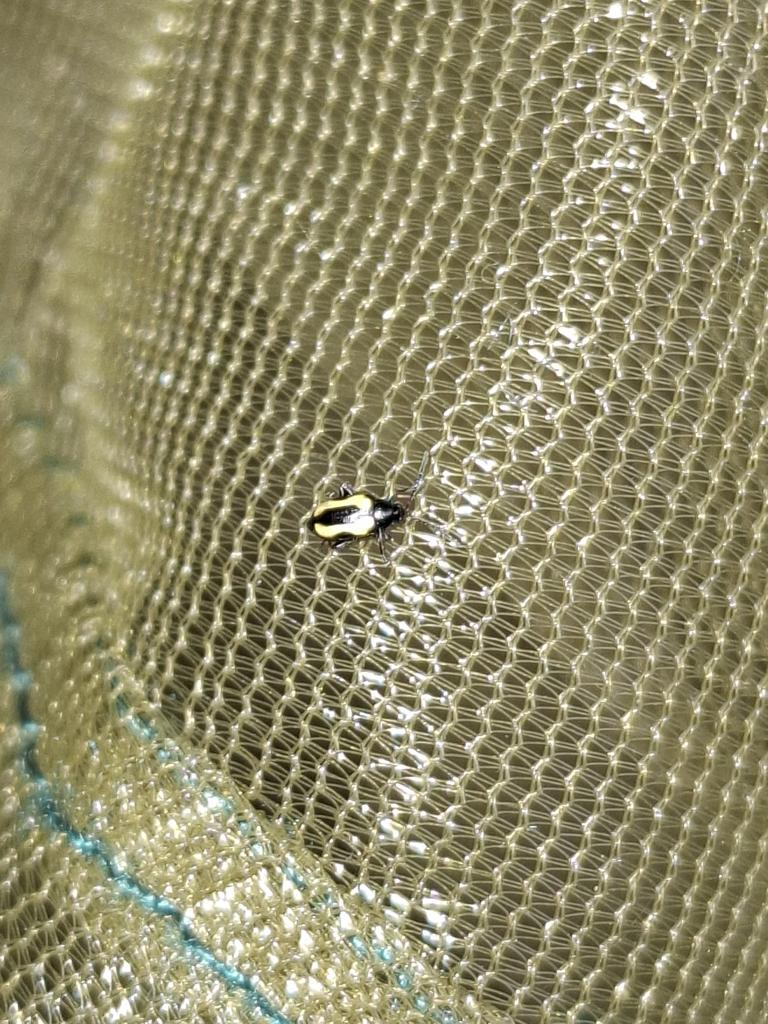flea_beetle: (266, 452, 432, 573)
